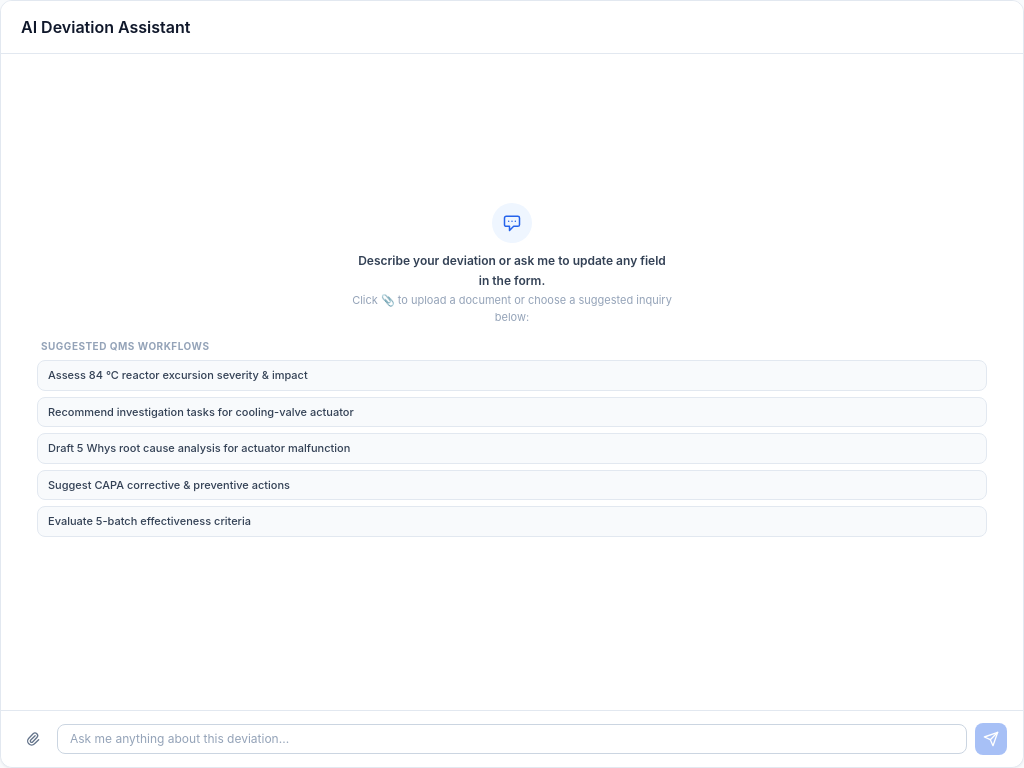
AiAssistantPanel - AI Deviation Assistant › 2. natural-language form update: sets site/plant via chat and updates left form live
(page scrolled)
In the field with placeholder "Ask me anything about this deviation...": (512, 739) [57, 724, 967, 754], type "Set the site to Demo Manufacturing Site."
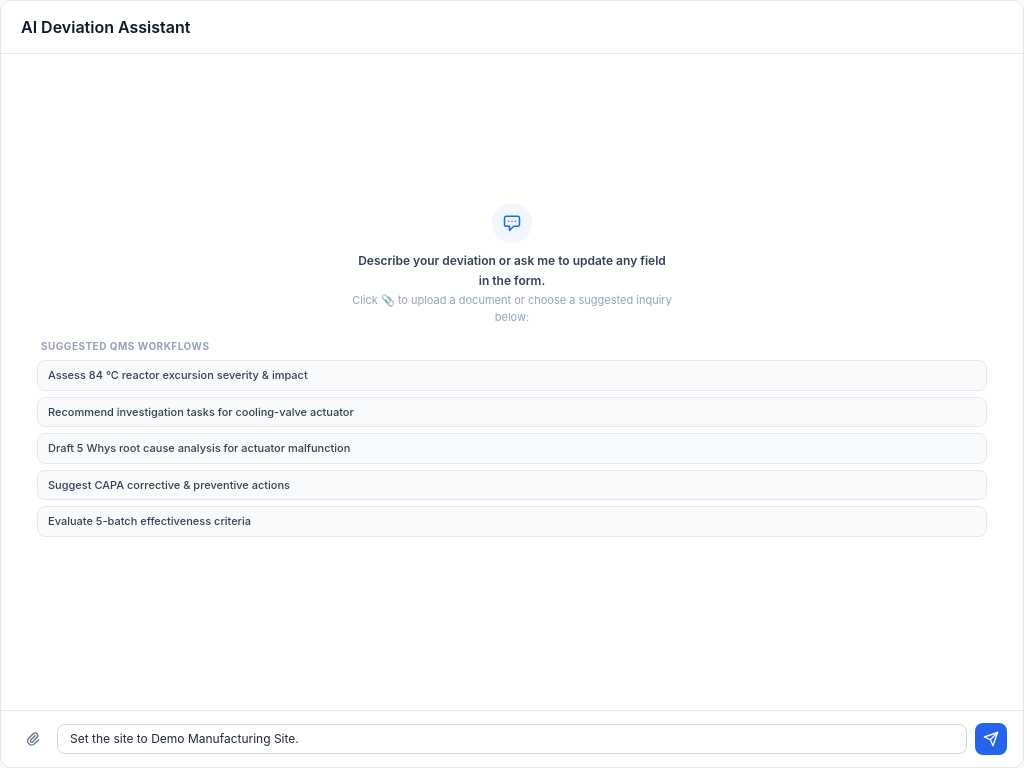
Click the button named "Send message": (991, 739) [975, 723, 1007, 755]
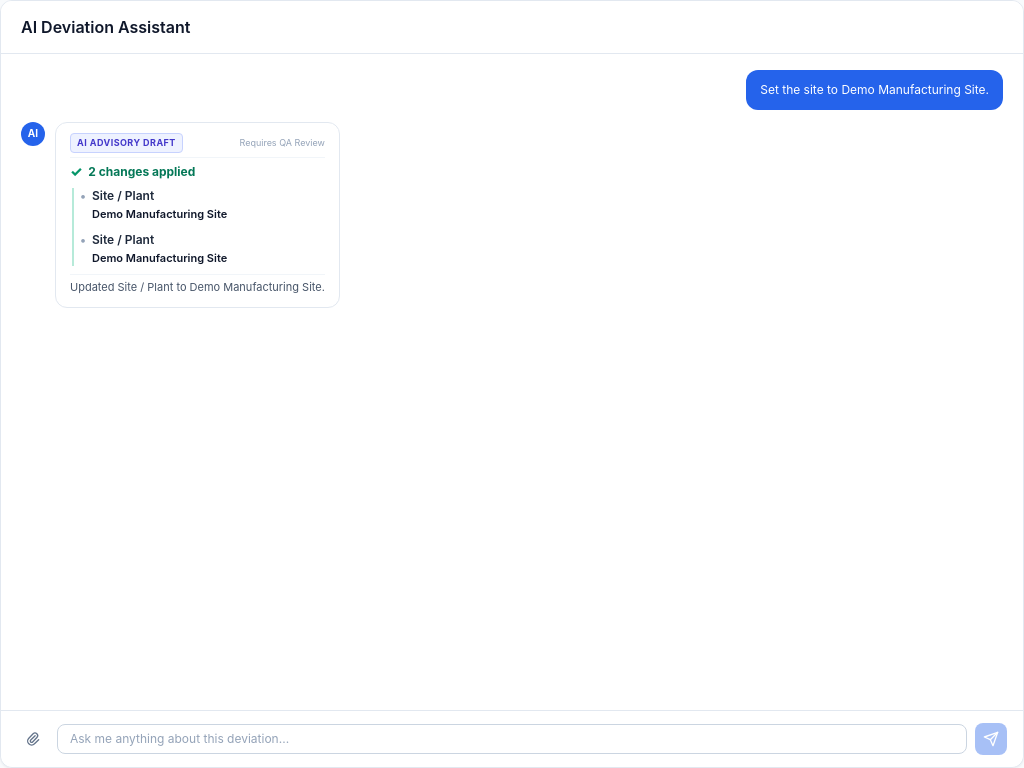
Now the text "Set the site to Demo Manufacturing Site." is shown, box [760, 80, 989, 100]
Now the text "Updated Site / Plant to Demo Manufacturing Site." is shown, box [70, 274, 325, 297]
Now the 1st text "Demo Manufacturing Site" is shown, box [92, 207, 227, 221]
